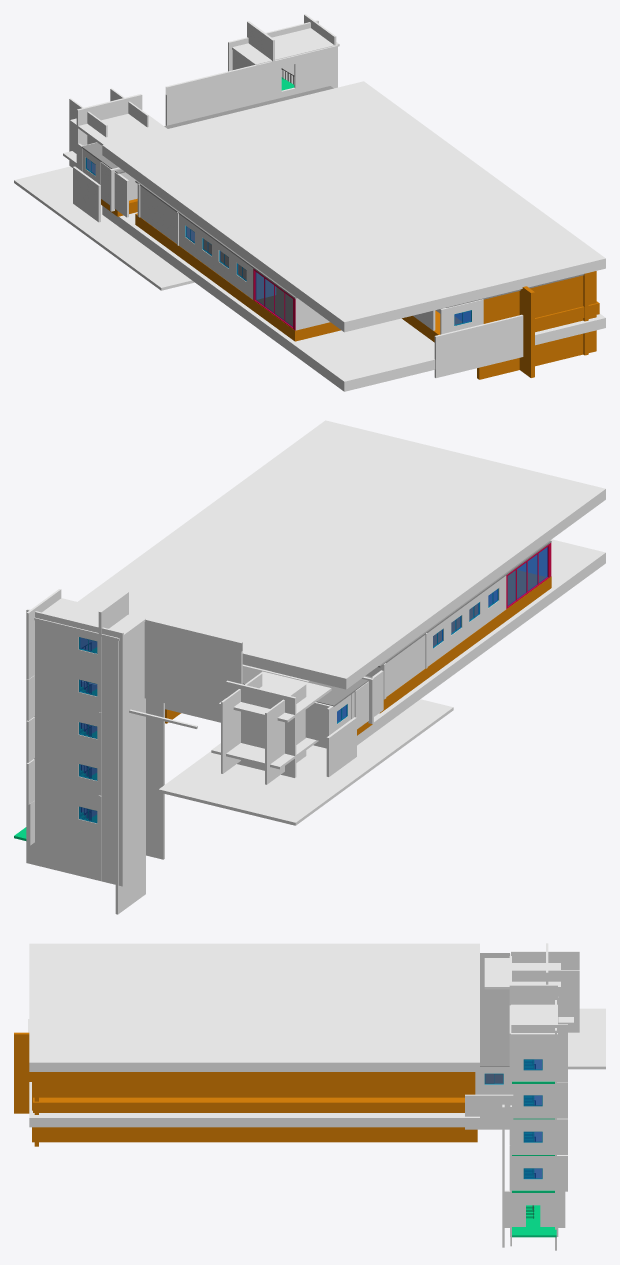
Rendered from Map3.fbx.
3 views of the same model, one above another, from view 1: azimuth 30°, elevation 25°; view 2: azimuth 150°, elevation 25°; view 3: azimuth 270°, elevation 25° (orthographic). The views are drawn at different scales.
Visible parts, largest first — view 1: ground9, ground10, Wall24, pCube104, ground8, pCube100, Wall9, FireExitCeiling, ground3, ground2, pCube99, ground7 (+11 smaller); view 2: ground9, group13_Wall31, pCube104, pCube90, ground10, Wall24, Wall9, Wall29, pCube91, pCube93, pCube96, ground3 (+11 smaller); view 3: ground9, ground11, ground4, ground10, Wall25, ground, pCube104, Wall27, Wall30, Wall28, Wall26, pCube97 (+10 smaller).
Boxes of the visible parts, <box> form: ground9: <box>102,81,605,332</box>; ground10: <box>102,206,605,391</box>; Wall24: <box>165,45,337,125</box>; pCube104: <box>14,166,194,290</box>; ground8: <box>477,271,596,379</box>; pCube100: <box>434,314,523,377</box>; Wall9: <box>140,186,253,299</box>; FireExitCeiling: <box>232,28,339,64</box>; ground3: <box>135,213,283,310</box>; ground2: <box>253,293,340,341</box>; pCube99: <box>70,111,167,145</box>; ground7: <box>519,286,534,377</box>; ground9: <box>78,420,605,689</box>; group13_Wall31: <box>26,609,123,886</box>; pCube104: <box>158,699,453,825</box>; pCube90: <box>115,618,145,914</box>; ground10: <box>165,539,605,748</box>; Wall24: <box>61,598,242,683</box>; Wall9: <box>386,576,506,696</box>; Wall29: <box>80,646,333,740</box>; pCube91: <box>146,698,164,859</box>; pCube93: <box>226,680,296,777</box>; pCube96: <box>265,684,306,784</box>; ground3: <box>379,604,507,713</box>; ground9: <box>29,943,479,1071</box>; ground11: <box>32,1072,477,1142</box>; ground4: <box>33,1097,464,1112</box>; ground10: <box>29,1082,479,1127</box>; Wall25: <box>511,1024,567,1082</box>; ground: <box>480,953,509,1066</box>; pCube104: <box>568,1008,605,1069</box>; Wall27: <box>512,1118,567,1154</box>; Wall30: <box>504,1190,565,1227</box>; Wall28: <box>512,1155,567,1191</box>; Wall26: <box>512,1082,567,1118</box>; pCube97: <box>512,970,579,1032</box>.
Bounding box in the file's own units: 27.92 × 25.63 × 53.16.
